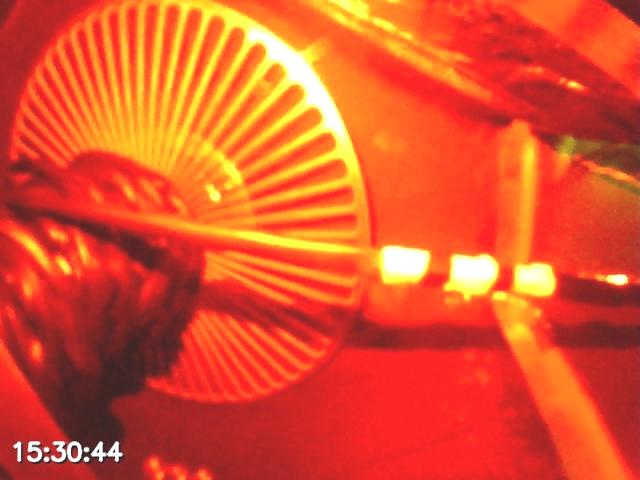white-dots: (377, 244, 557, 300)
